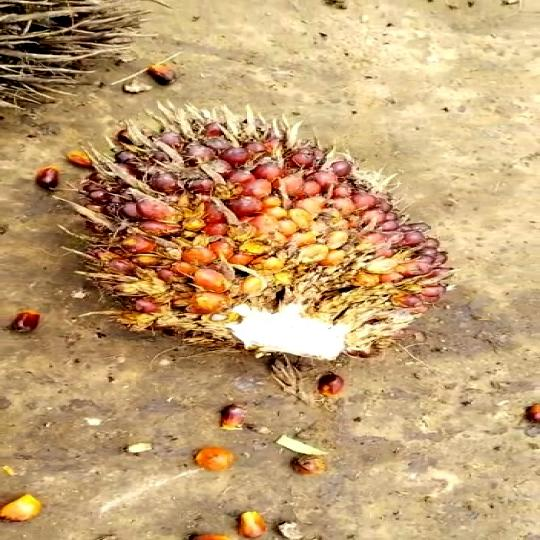masak: (63, 105, 458, 364)
